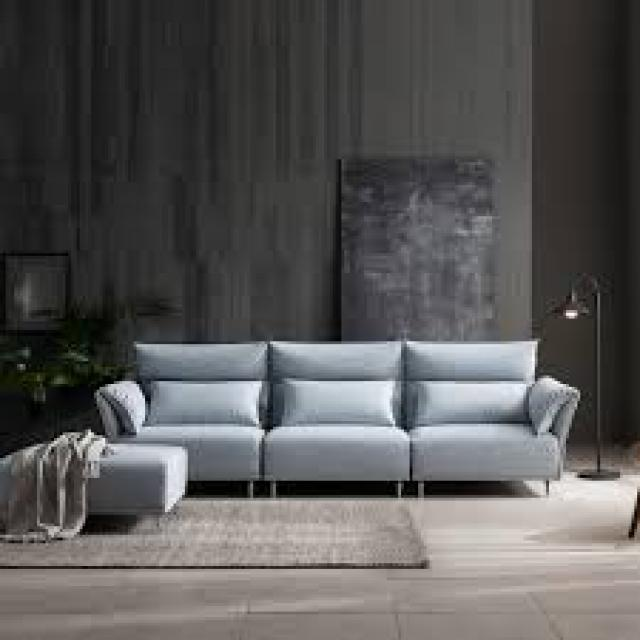Sofa: (36, 318, 600, 554)
